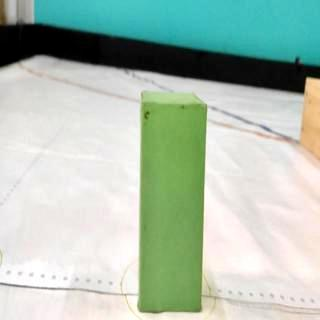greenbox: (134, 87, 210, 313)
